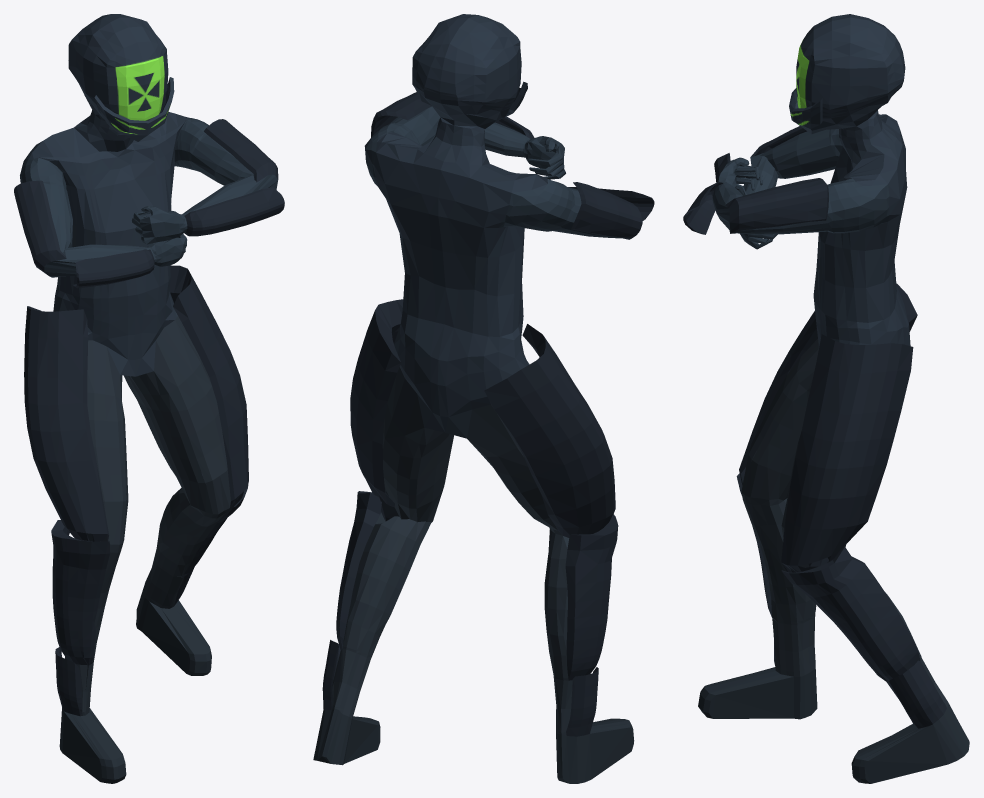
The model's file is Bastion_WB_000017.obj.
The picture shows the model from 3 angles, left to right: view 1: azimuth 30°, elevation 25°; view 2: azimuth 150°, elevation 25°; view 3: azimuth 270°, elevation 25°; orthographic projection. The views are drawn at different scales.
Visible parts, largest first — view 1: Cube.002; view 2: Cube.002; view 3: Cube.002.
Part boxes in pixels (x1=…): Cube.002: x1=14, y1=14, x2=284, y2=783; Cube.002: x1=313, y1=14, x2=654, y2=783; Cube.002: x1=683, y1=14, x2=969, y2=783.
Bounding box in the file's own units: 1.34 × 3.76 × 1.33.
